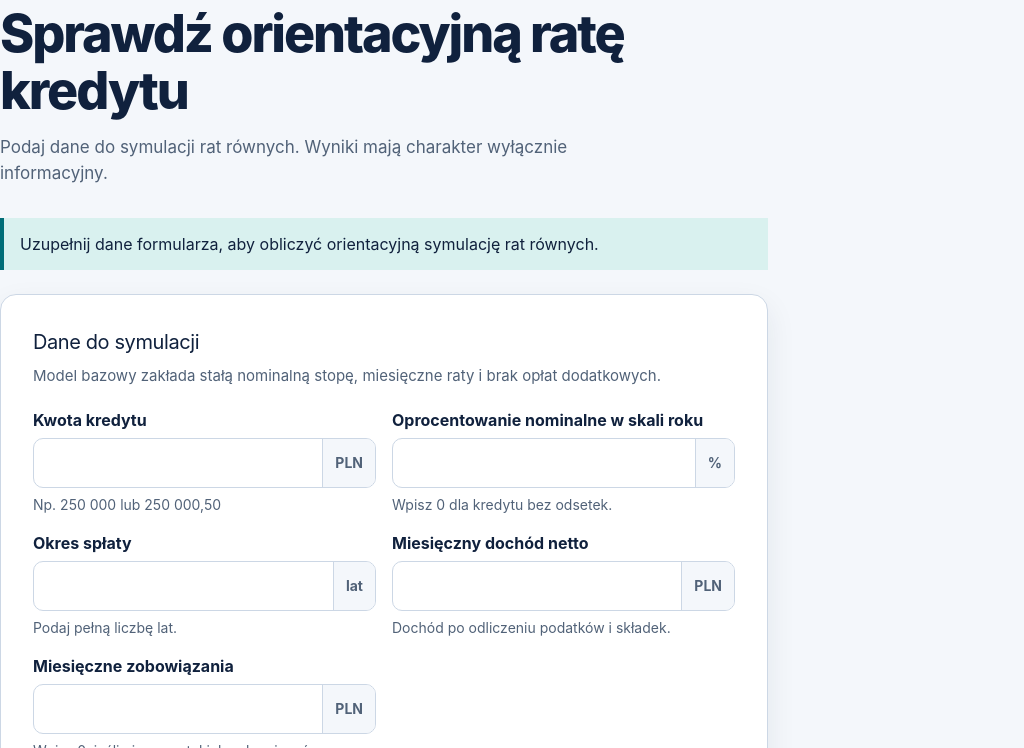
it: LoanCalculator › akceptuje oprocentowanie zapisane z przecinkiem oraz zerowe zobowiązania
The image size is (1024, 748).
Type "1200" into the field labelled "Kwota kredytu" at (178, 463), box left=34, top=439, right=322, bottom=487
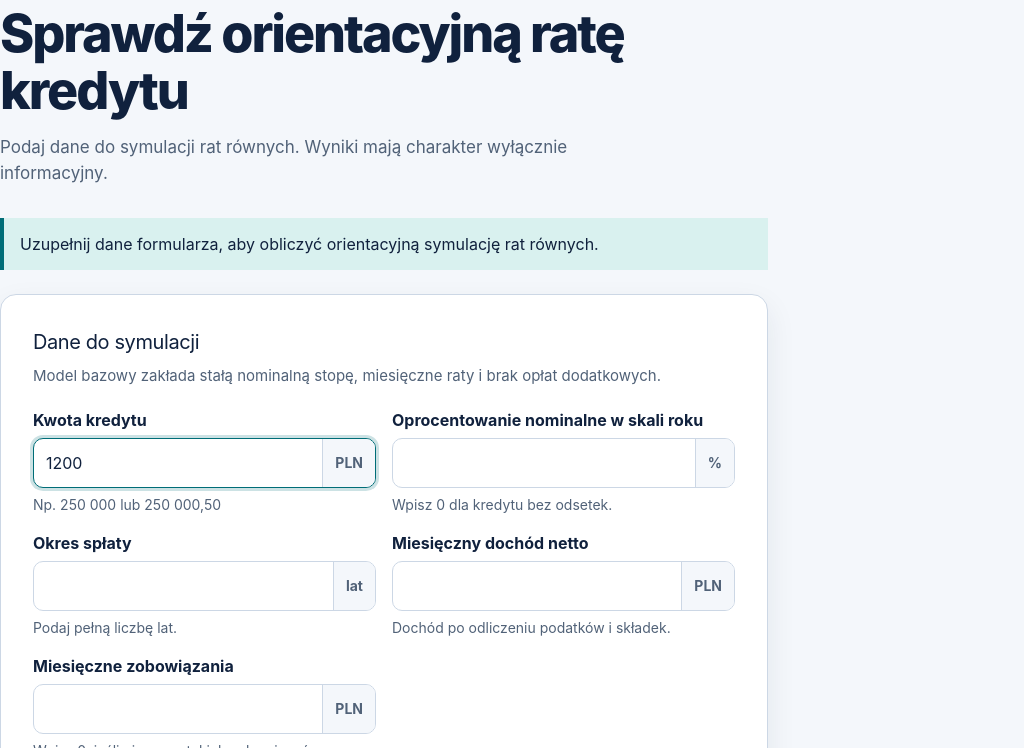
Type "0,0" into the field labelled "Oprocentowanie nominalne w skali roku" at (544, 463), box left=393, top=439, right=695, bottom=487
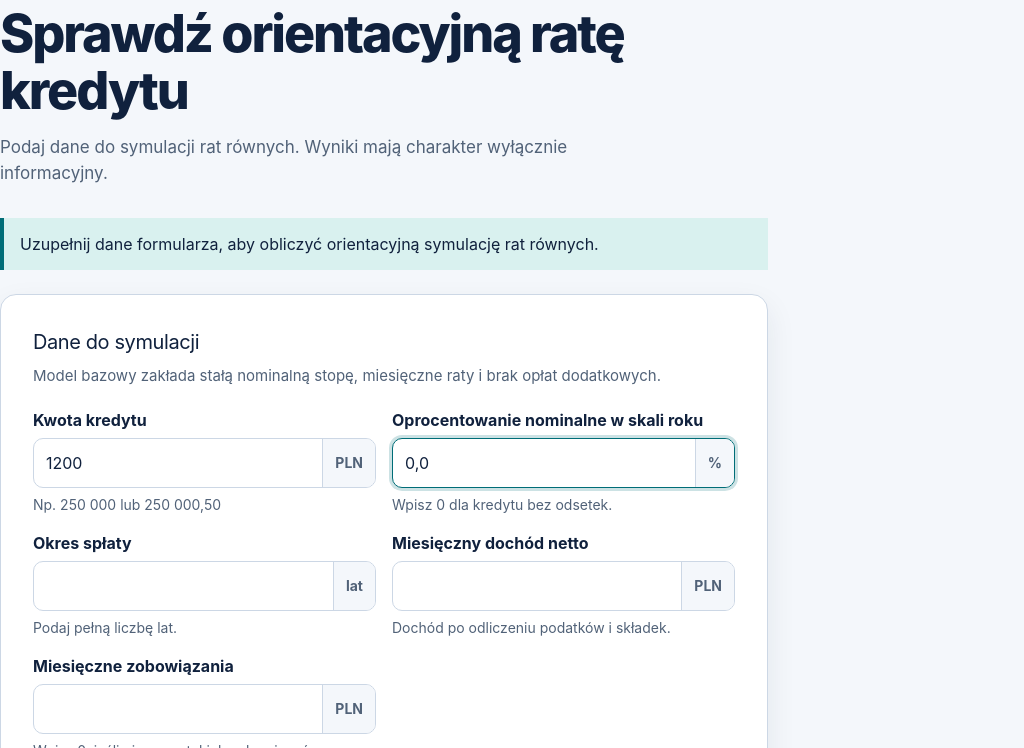
Type "1" into the field labelled "Okres spłaty" at (183, 586), box left=34, top=562, right=333, bottom=610
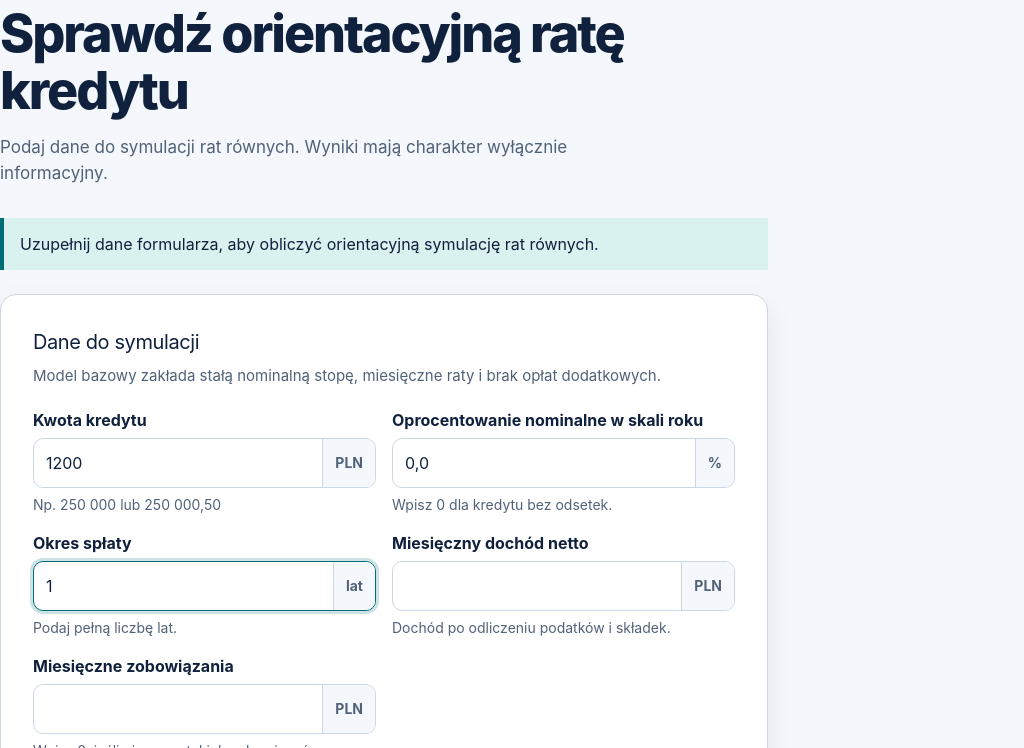
Type "10000" into the field labelled "Miesięczny dochód netto" at (537, 586), box left=393, top=562, right=681, bottom=610
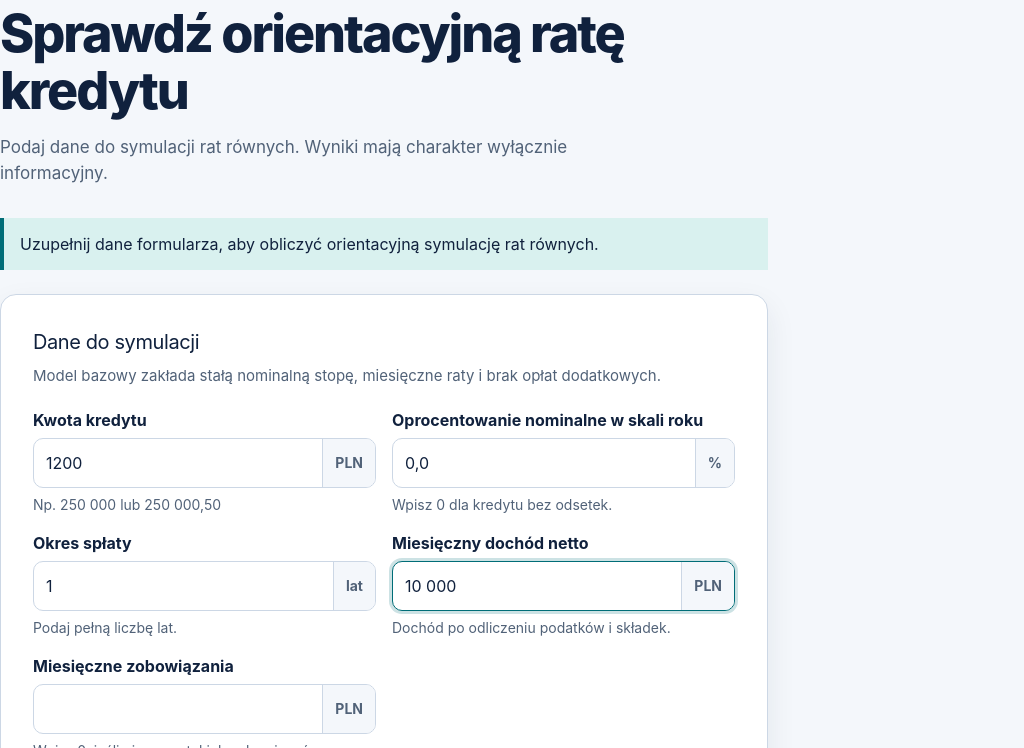
Type "0" into the field labelled "Miesięczne zobowiązania" at (178, 709), box left=34, top=685, right=322, bottom=733
(page scrolled)
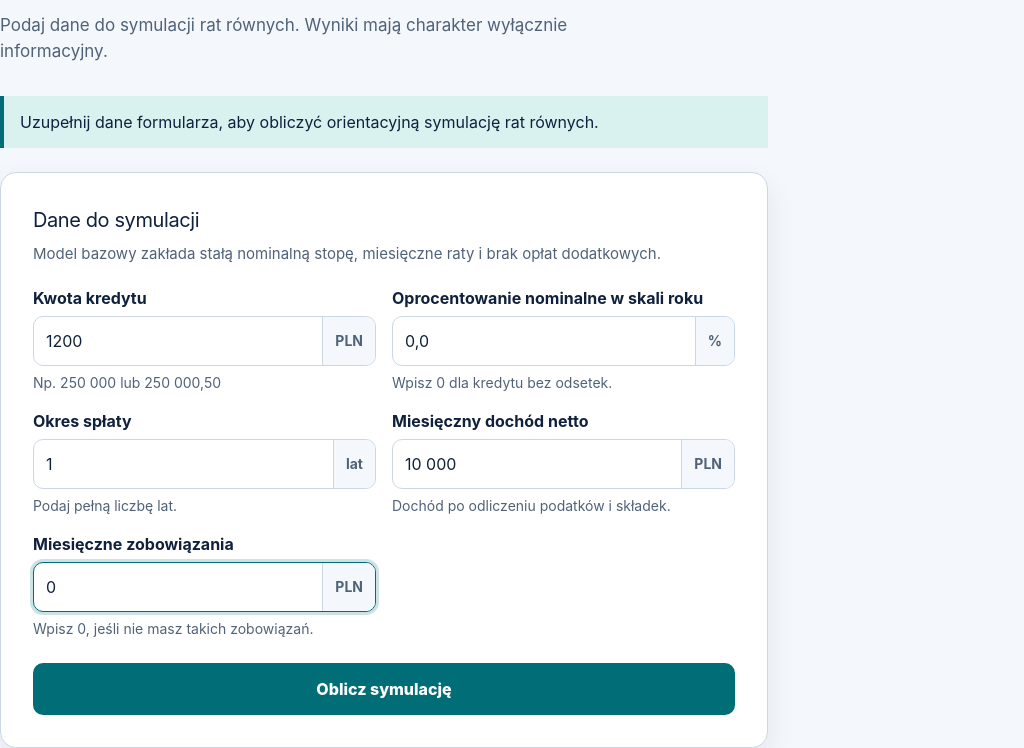
Click the button "Oblicz symulację" at (384, 689), box left=33, top=663, right=735, bottom=715
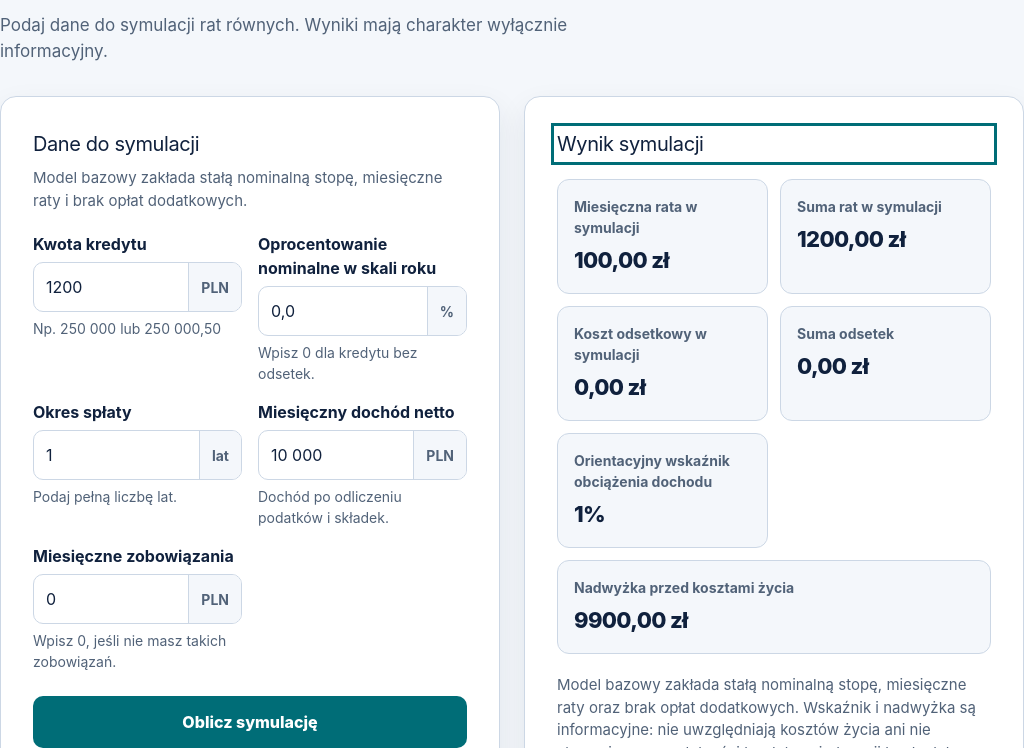
Check: the heading "Wynik symulacji" is shown, box left=557, top=132, right=704, bottom=156
